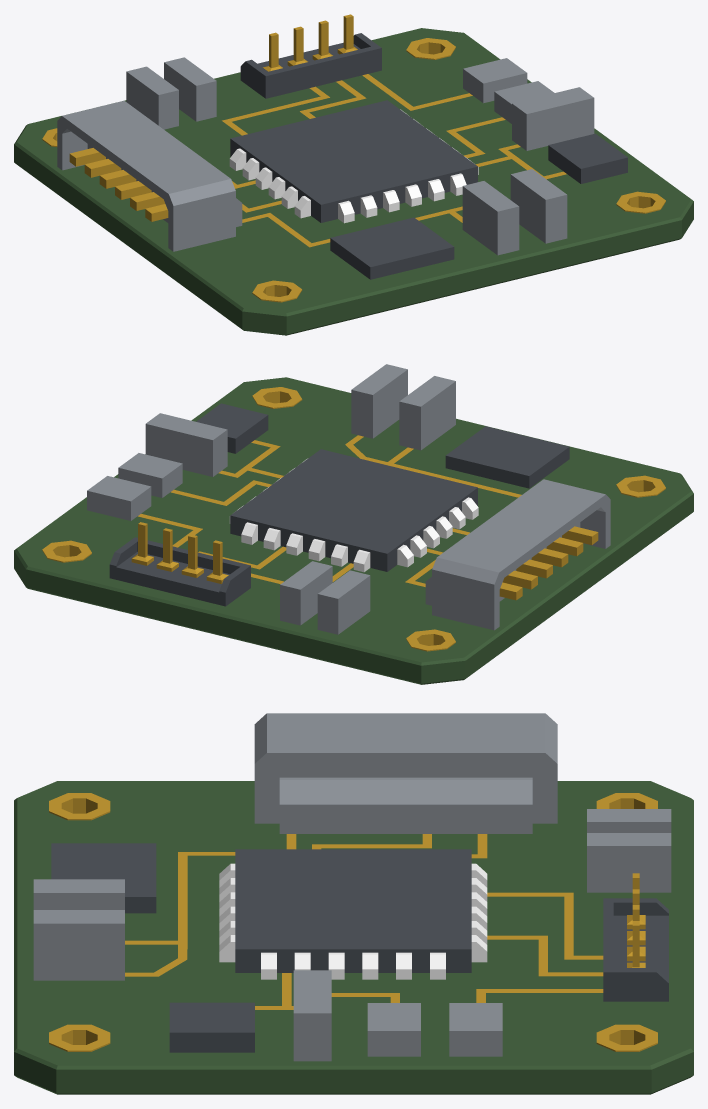
Rendered from SM_Circuit_Board.fbx.
3 views of the same model, one above another, from view 1: azimuth 30°, elevation 25°; view 2: azimuth 150°, elevation 25°; view 3: azimuth 270°, elevation 25° (orthographic). The views are drawn at different scales.
Visible parts, largest first — view 1: SM_Circuit_Board; view 2: SM_Circuit_Board; view 3: SM_Circuit_Board.
Part boxes in pixels (x1,y1,x2,y2): SM_Circuit_Board: (14,14,693,335); SM_Circuit_Board: (14,364,693,684); SM_Circuit_Board: (14,713,693,1094).
Size of the model in its own units: 31.46 by 5.18 by 31.46.
